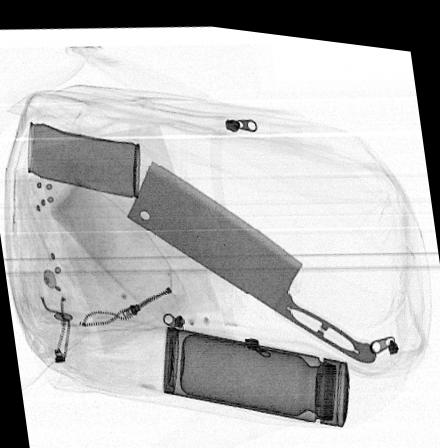Knife: (124, 156, 376, 352)
